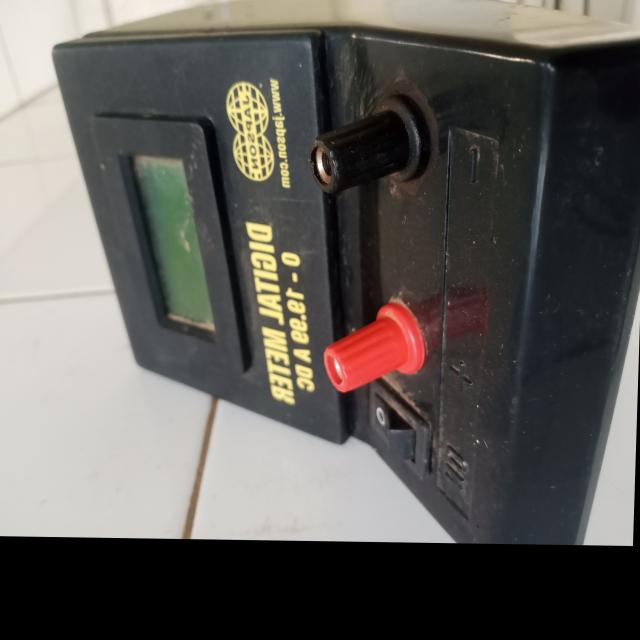Digital Ammeter: (54, 13, 640, 543)
